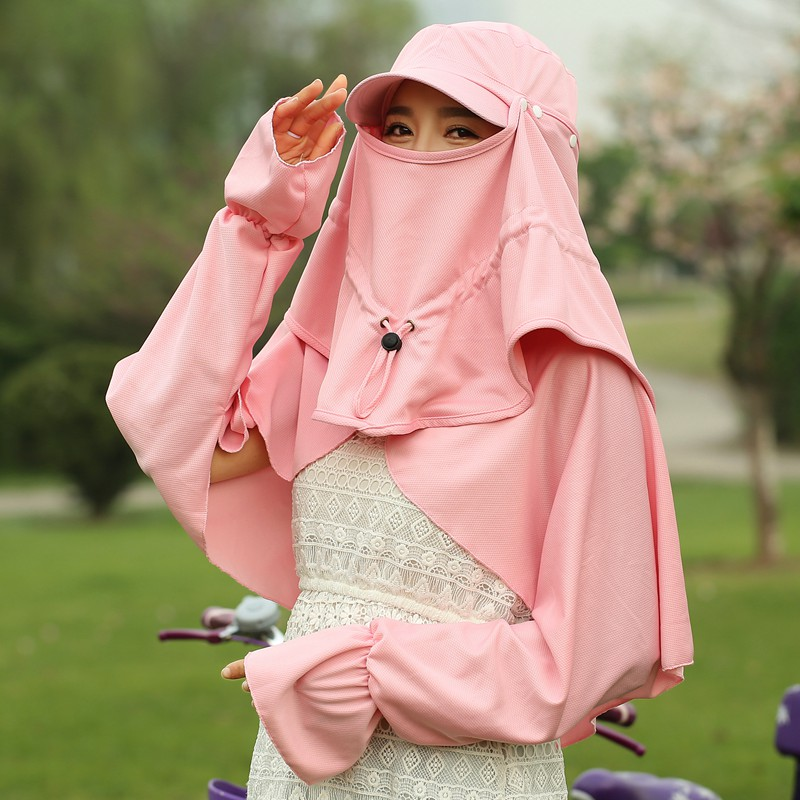face_mask: (380, 56, 520, 253)
